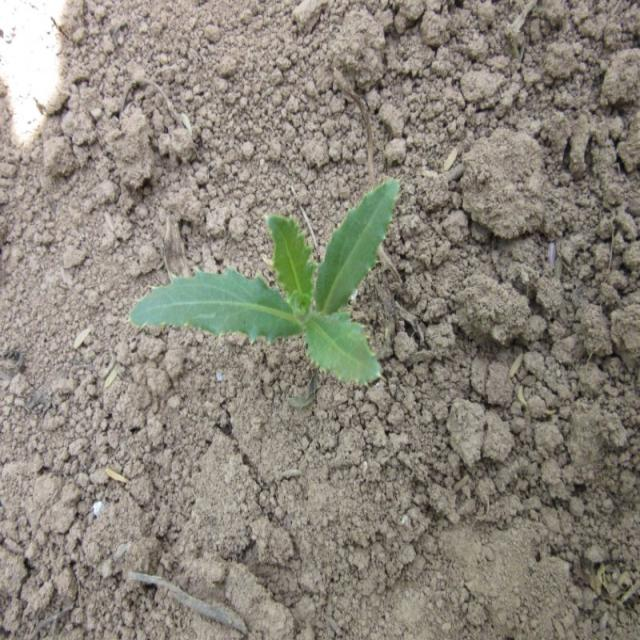field_thistle: (124, 195, 424, 399)
